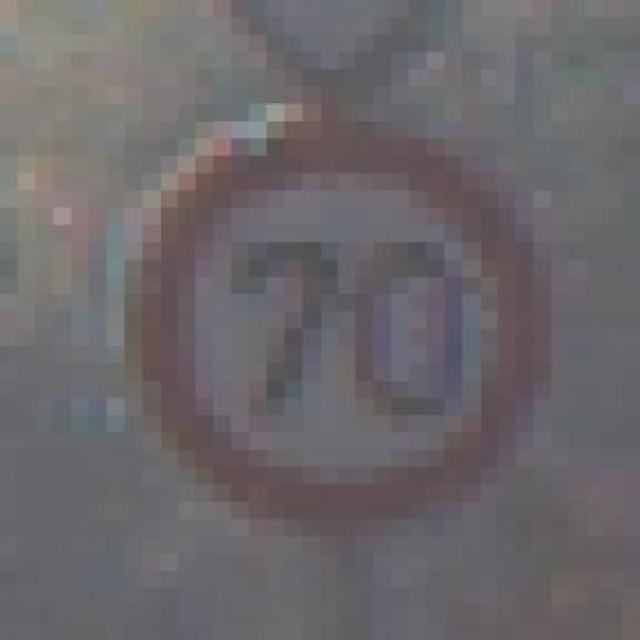forb_speed_over_70: (139, 118, 545, 524)
